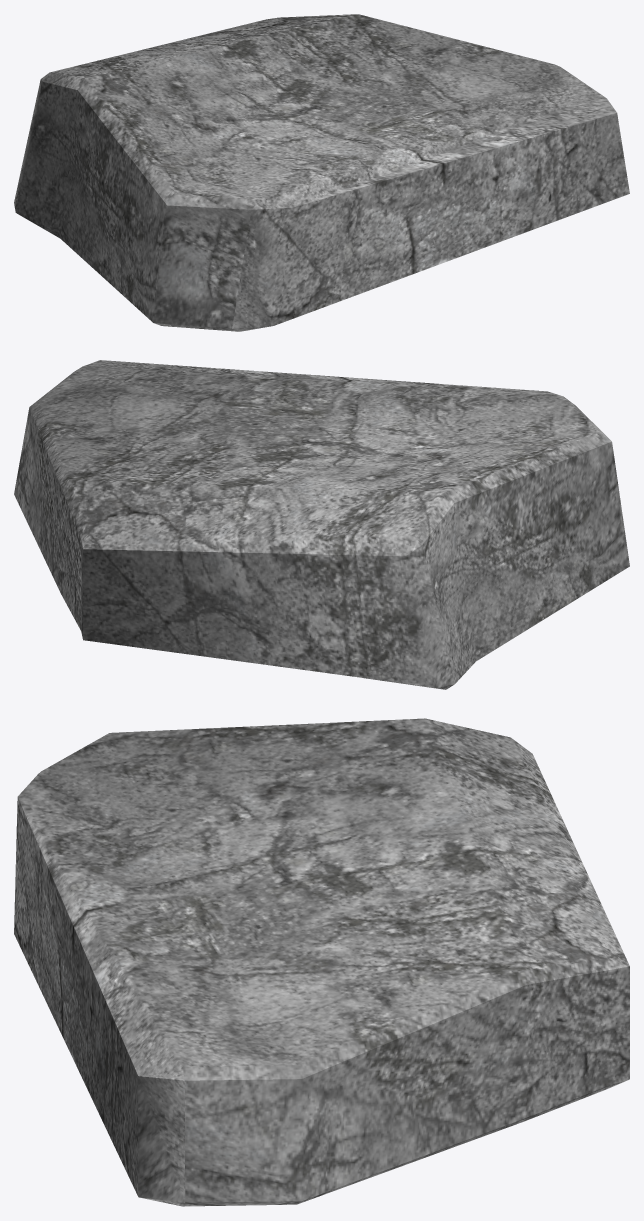
Rendered from materials_3_rubble_5.fbx.
3 views of the same model, one above another, from view 1: azimuth 30°, elevation 25°; view 2: azimuth 150°, elevation 25°; view 3: azimuth 270°, elevation 25° (orthographic). The views are drawn at different scales.
Visible parts, largest first — view 1: materials_3_rubble_5; view 2: materials_3_rubble_5; view 3: materials_3_rubble_5.
Part boxes in pixels (bbox=[...]): materials_3_rubble_5: bbox=[14, 14, 629, 331]; materials_3_rubble_5: bbox=[14, 360, 629, 689]; materials_3_rubble_5: bbox=[14, 718, 629, 1206].
Bounding box in the file's own units: 72.97 × 22 × 58.3.
